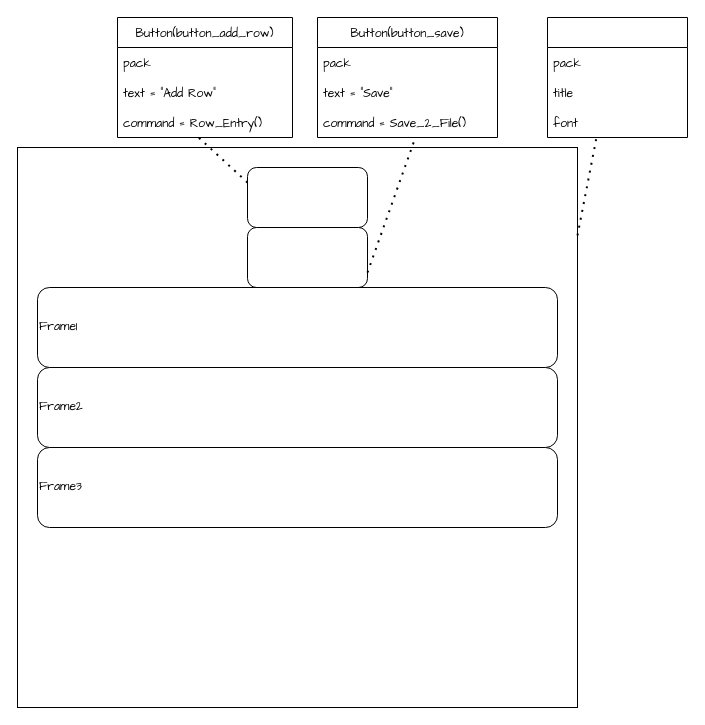
This 705x725 diagram has some shape labels left out. The shapes that lost their labels are listed below. From the top down, each one's box as (x1, y1, x2, y2) in pixels, then its label:
(546, 16, 688, 138): root
(246, 166, 368, 228): Add Row
(246, 226, 368, 288): Save
